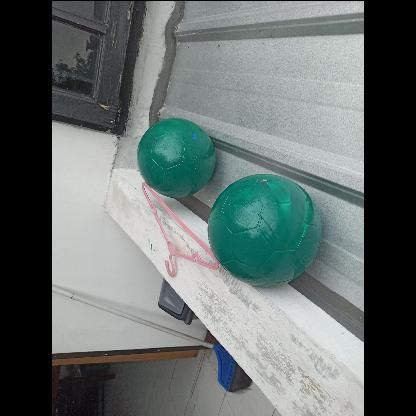green_ball: (206, 172, 322, 288), (136, 116, 214, 194)
